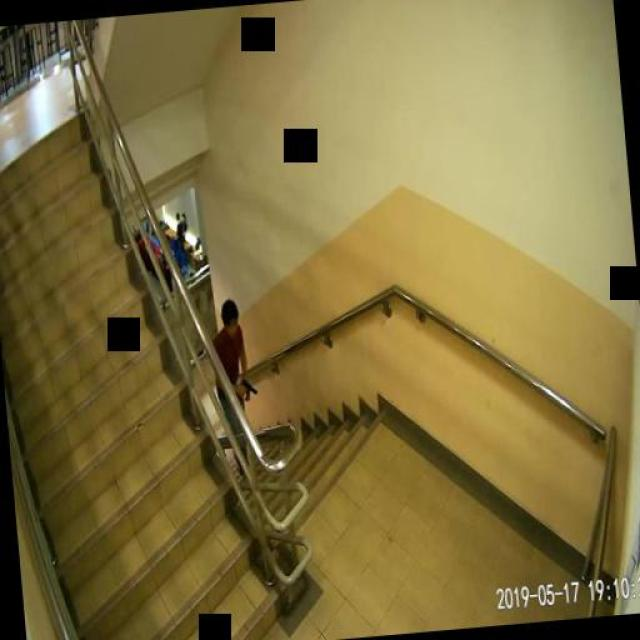gun: (239, 378, 256, 397)
